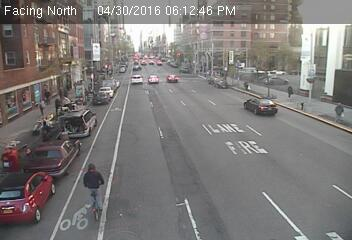neg: (178, 114, 200, 144), (70, 195, 88, 219), (87, 42, 105, 66), (126, 71, 143, 94), (223, 49, 240, 71), (260, 84, 275, 104), (74, 79, 87, 97), (297, 96, 310, 114)
pos: (328, 98, 350, 127), (38, 85, 53, 105), (284, 84, 297, 101)
